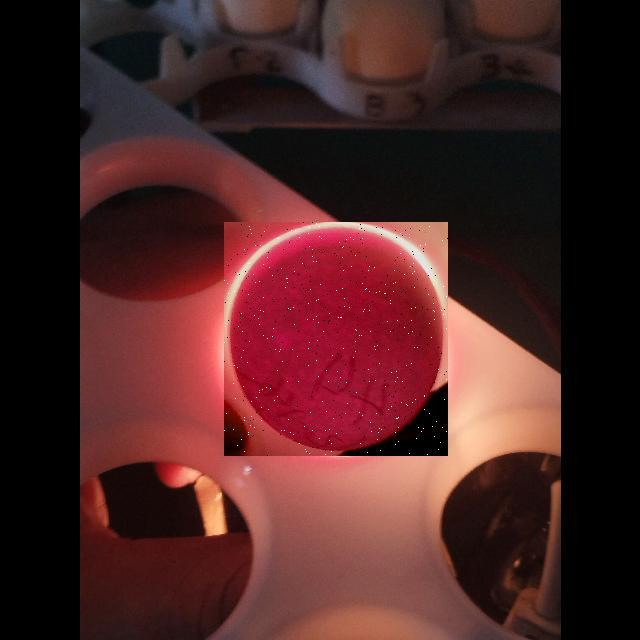Infertile: (224, 222, 448, 456)
